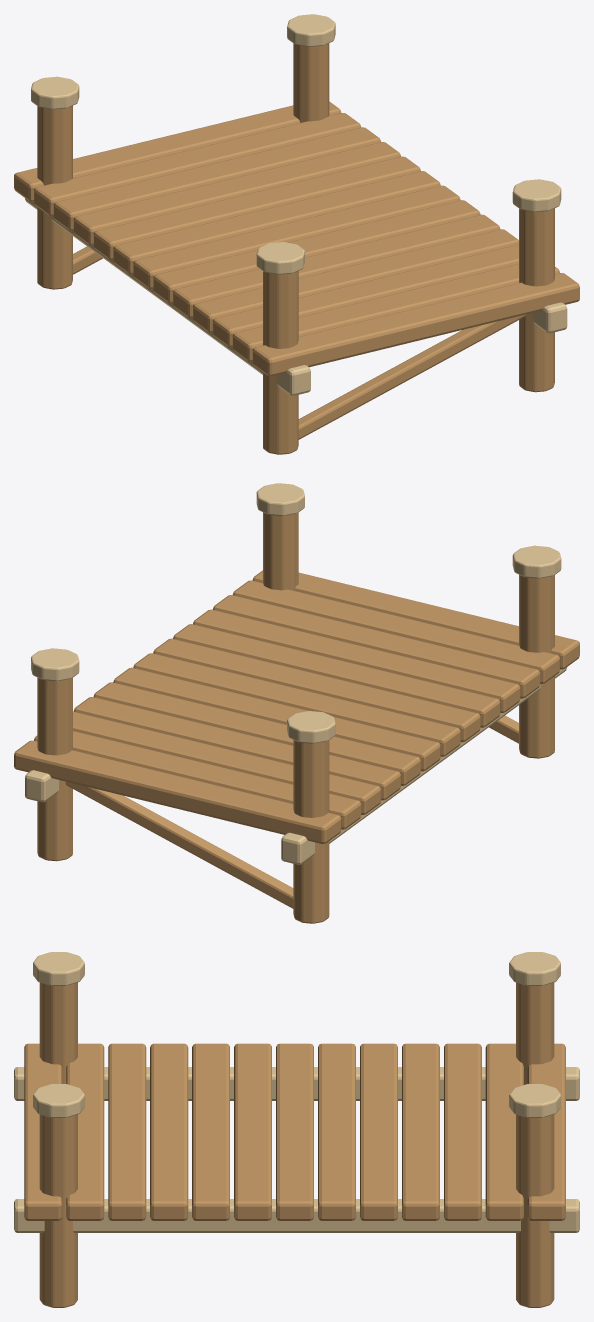
Rendered from S075_wooden_dock.glb.
The picture shows the model from 3 angles, top to bottom: view 1: azimuth 30°, elevation 25°; view 2: azimuth 150°, elevation 25°; view 3: azimuth 270°, elevation 25°; orthographic projection. The views are drawn at different scales.
Parts seen in each view (by area): view 1: dock_deck, dock_deck.008, dock_deck.007, dock_deck.010, dock_deck.009, dock_deck.011, dock_deck.006, dock_deck.003, dock_deck.004, dock_deck.005, dock_deck.002, dock_deck.012 (+12 smaller); view 2: dock_deck.012, dock_deck.005, dock_deck.004, dock_deck.002, dock_deck.003, dock_deck.006, dock_deck.001, dock_deck.009, dock_deck.008, dock_deck.007, dock_deck.010, dock_pile.001 (+12 smaller); view 3: dock_runner.001, dock_deck.002, dock_deck.003, dock_deck.004, dock_deck.005, dock_deck.007, dock_deck.008, dock_deck.009, dock_deck.010, dock_deck.006, dock_pile.002, dock_pile.003 (+11 smaller).
Boxes of the visible parts, left/top/right/bottom form: dock_deck: left=252, top=273, right=579, bottom=376; dock_deck.008: left=93, top=156, right=420, bottom=259; dock_deck.007: left=113, top=171, right=440, bottom=274; dock_deck.010: left=53, top=127, right=380, bottom=230; dock_deck.009: left=73, top=142, right=400, bottom=245; dock_deck.011: left=34, top=113, right=361, bottom=216; dock_deck.006: left=133, top=185, right=460, bottom=289; dock_deck.003: left=193, top=229, right=518, bottom=332; dock_deck.004: left=173, top=214, right=500, bottom=318; dock_deck.005: left=153, top=200, right=480, bottom=303; dock_deck.002: left=212, top=244, right=518, bottom=347; dock_deck.012: left=14, top=101, right=341, bottom=201; dock_deck.012: left=14, top=740, right=341, bottom=843; dock_deck.005: left=153, top=638, right=480, bottom=742; dock_deck.004: left=173, top=624, right=500, bottom=727; dock_deck.002: left=213, top=595, right=540, bottom=698; dock_deck.003: left=193, top=609, right=520, bottom=712; dock_deck.006: left=133, top=653, right=460, bottom=756; dock_deck.001: left=232, top=580, right=559, bottom=683; dock_deck.009: left=73, top=697, right=400, bottom=800; dock_deck.008: left=93, top=682, right=420, bottom=785; dock_deck.007: left=113, top=667, right=440, bottom=771; dock_deck.010: left=73, top=711, right=381, bottom=814; dock_pile.001: left=293, top=740, right=329, bottom=923; dock_runner.001: left=14, top=1199, right=579, bottom=1232; dock_deck.002: left=108, top=1043, right=146, bottom=1220; dock_deck.003: left=150, top=1043, right=188, bottom=1220; dock_deck.004: left=192, top=1043, right=229, bottom=1220; dock_deck.005: left=234, top=1043, right=271, bottom=1220; dock_deck.007: left=318, top=1043, right=355, bottom=1220; dock_deck.008: left=360, top=1043, right=397, bottom=1220; dock_deck.009: left=402, top=1043, right=439, bottom=1220; dock_deck.010: left=444, top=1043, right=481, bottom=1220; dock_deck.006: left=276, top=1043, right=313, bottom=1220; dock_pile.002: left=39, top=1114, right=77, bottom=1307; dock_pile.003: left=516, top=1114, right=554, bottom=1307.
Size of the model in its own units: 1.95 by 1.17 by 2.9.
